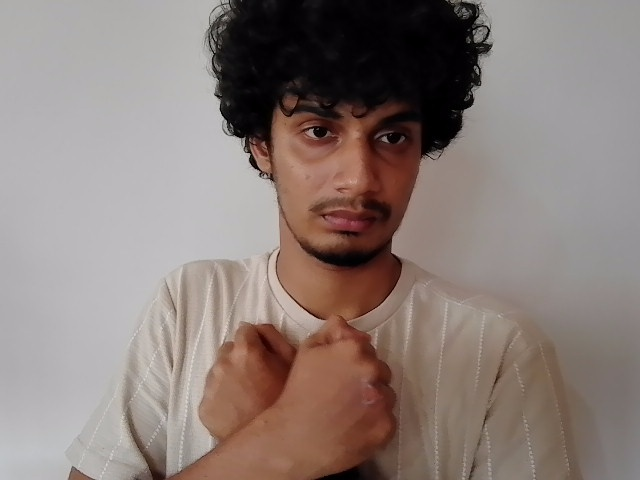love: (194, 313, 400, 480)
